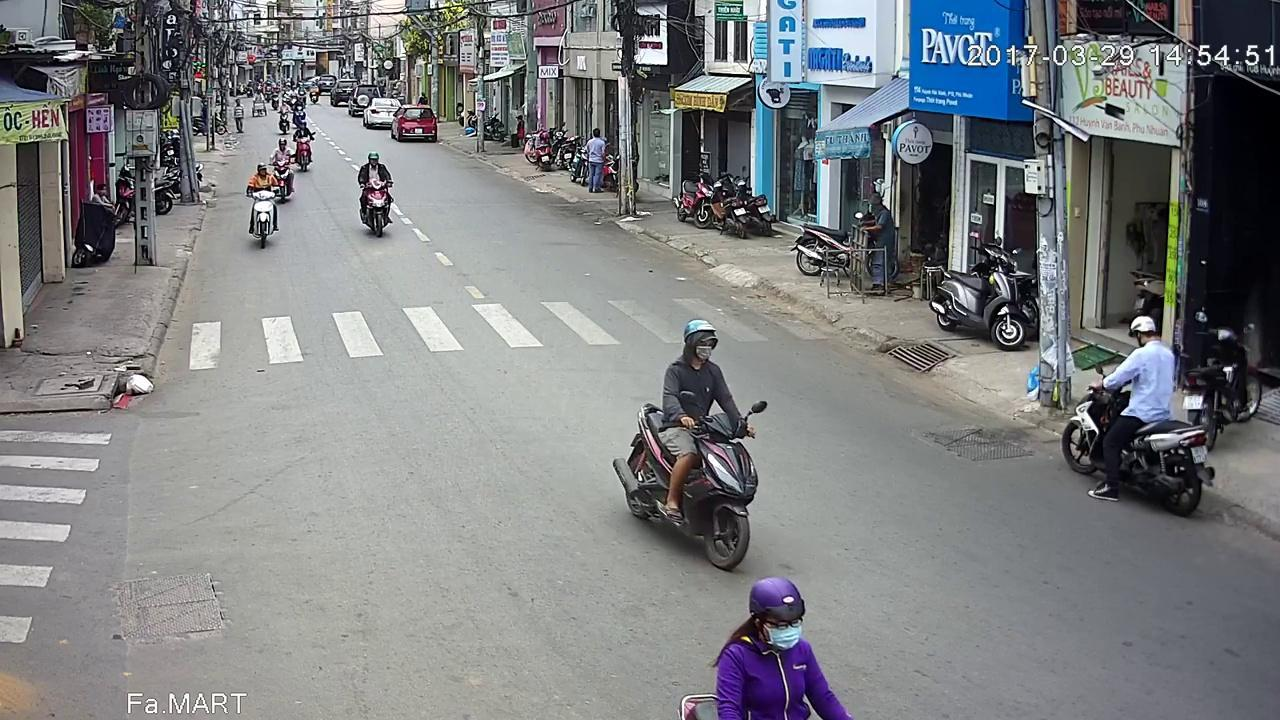xe hoi: (393, 105, 440, 143)
xe may: (609, 320, 766, 573), (1067, 320, 1223, 521), (681, 546, 856, 720), (357, 151, 394, 237), (247, 161, 282, 247), (269, 134, 298, 199)
